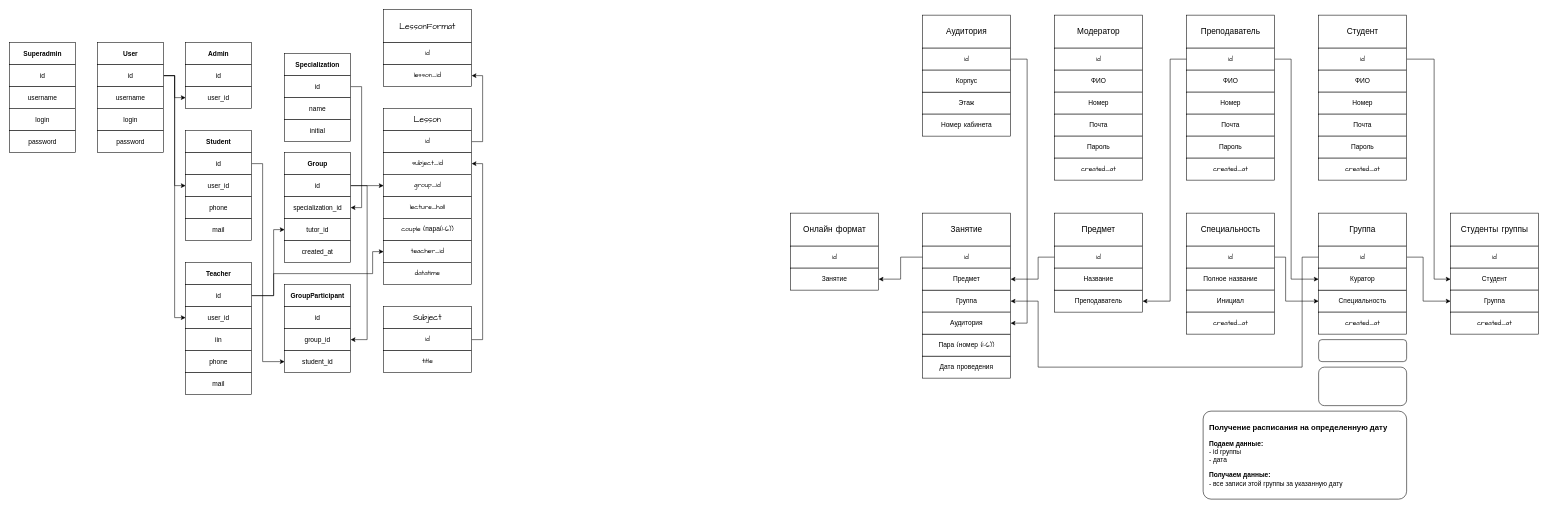
Some shapes in this 1548 by 509 pixel diagram are drawn without their labels. The shapes that lost their labels are listed below. From the top down, each one's centre as x and y in pixels, then its label:
(1362,350): Студенты
(1362,386): Подгруппа (вычисляется сортировка а затем делением студентов на пополам)
